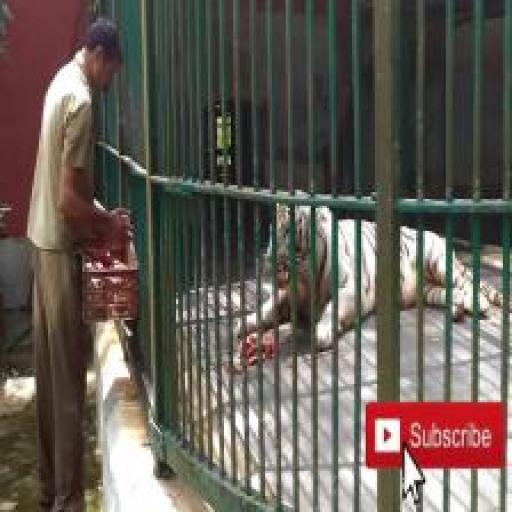Tiger: (233, 192, 512, 354)
